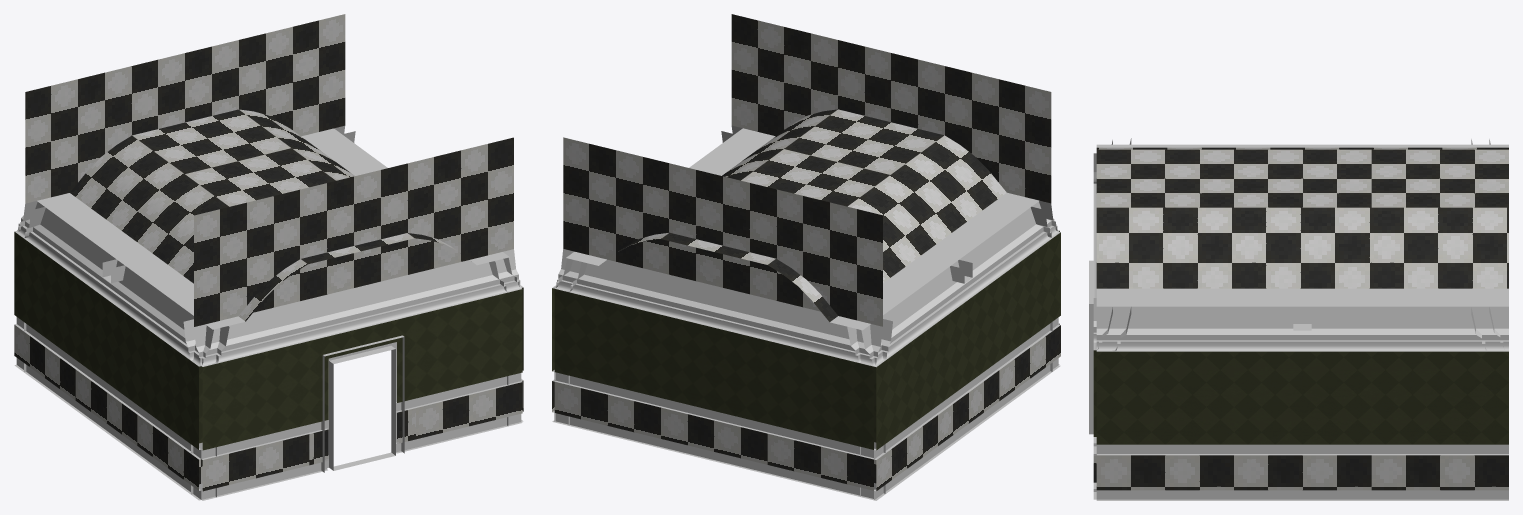
The model's file is Room_2.fbx.
The picture shows the model from 3 angles, left to right: view 1: azimuth 30°, elevation 25°; view 2: azimuth 150°, elevation 25°; view 3: azimuth 270°, elevation 25°; orthographic projection. The views are drawn at different scales.
Parts seen in each view (by area): view 1: Plane.030; view 2: Plane.030; view 3: Plane.030.
Part boxes in pixels (x1=…): Plane.030: x1=14, y1=14, x2=523, y2=500; Plane.030: x1=552, y1=14, x2=1060, y2=500; Plane.030: x1=1089, y1=138, x2=1508, y2=500.
Size of the model in its own units: 609 by 500 by 611.
